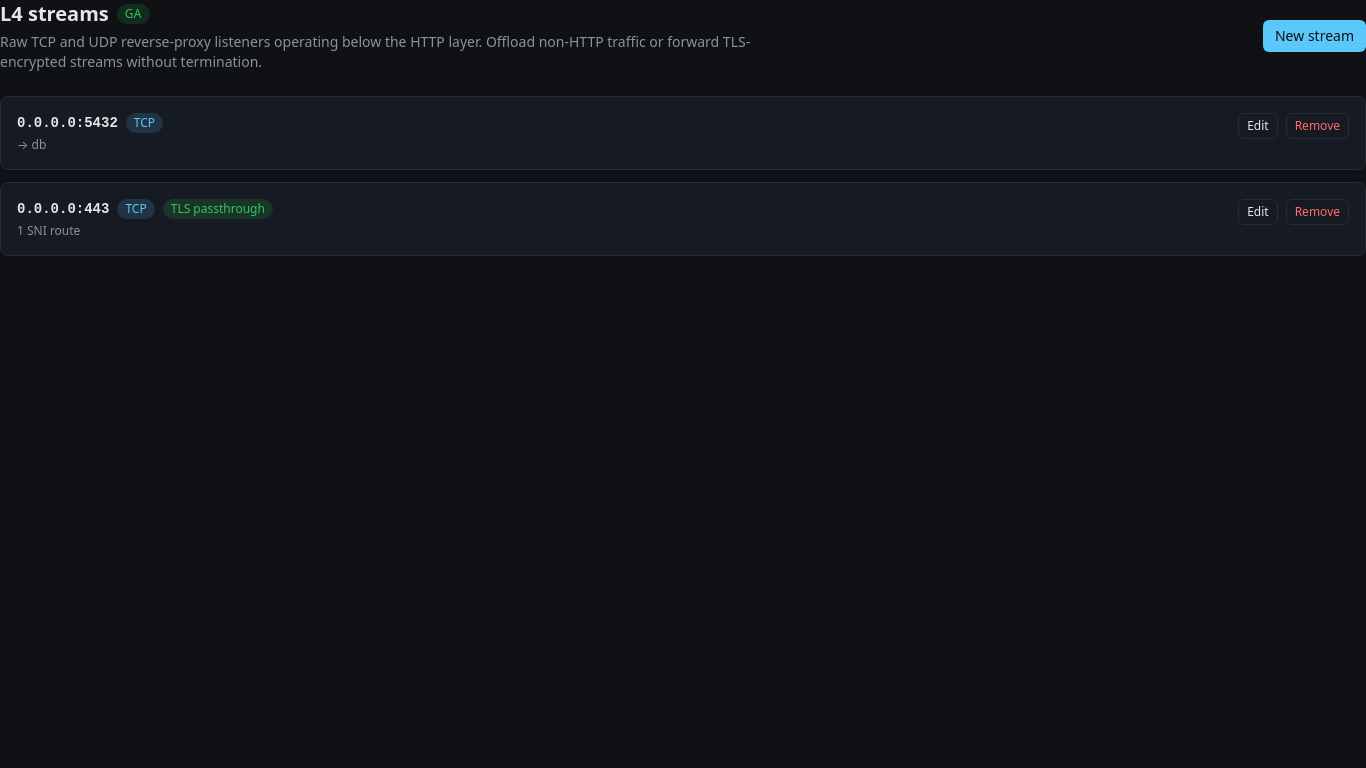
StreamsPanel › opens the editor drawer from New stream
Expected: the text "0.0.0.0:5432" is shown, [17,113,118,133]
Click the button "New stream": [1314, 36] box [1263,20,1365,52]
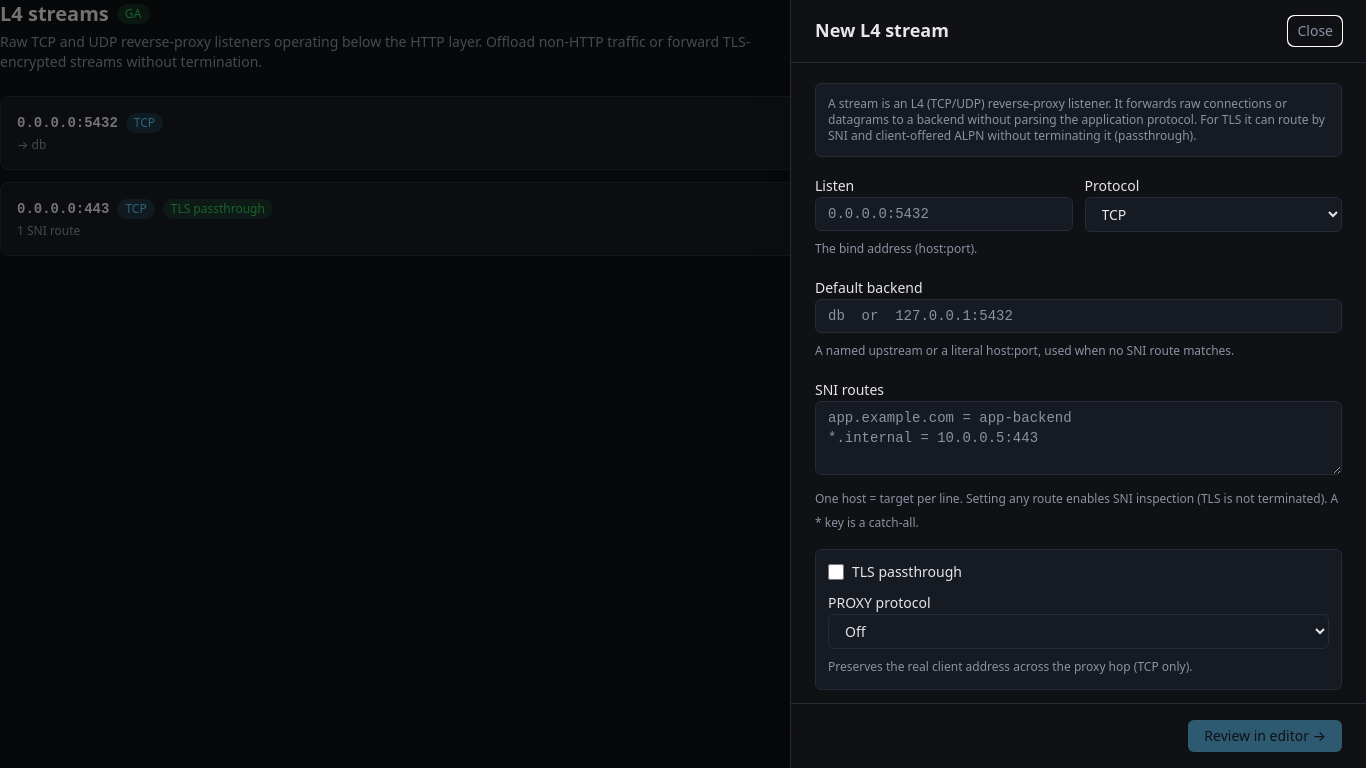
Expected: the text "A stream is an L4" is shown, [828,95,1325,144]
